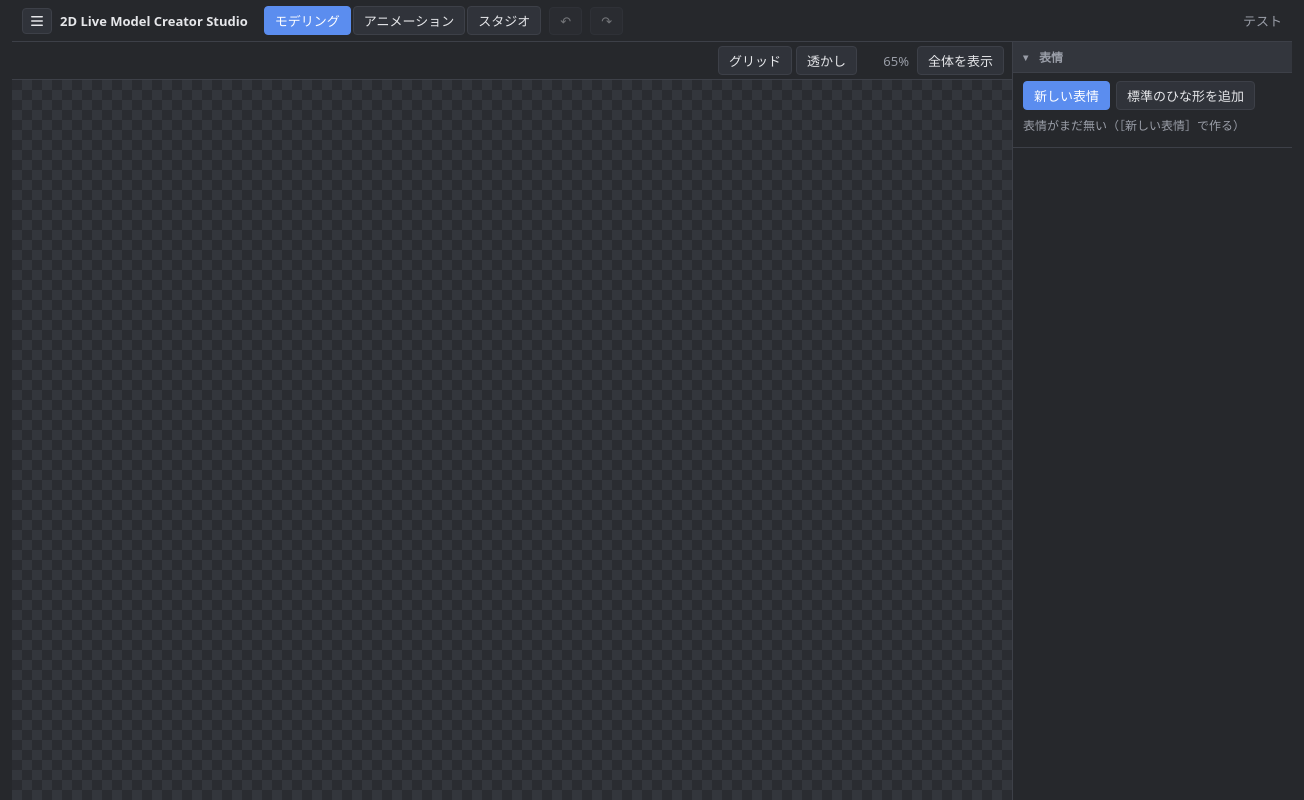
Test case: モデリングの「表情」パネル › 合成方法は最初から表示する
The image size is (1304, 800).
What coordinates should you click on to do the following:
click the button "新しい表情"
I would click on:
 (1066, 96)
Its box is [1023,81,1110,110].
(page scrolled)
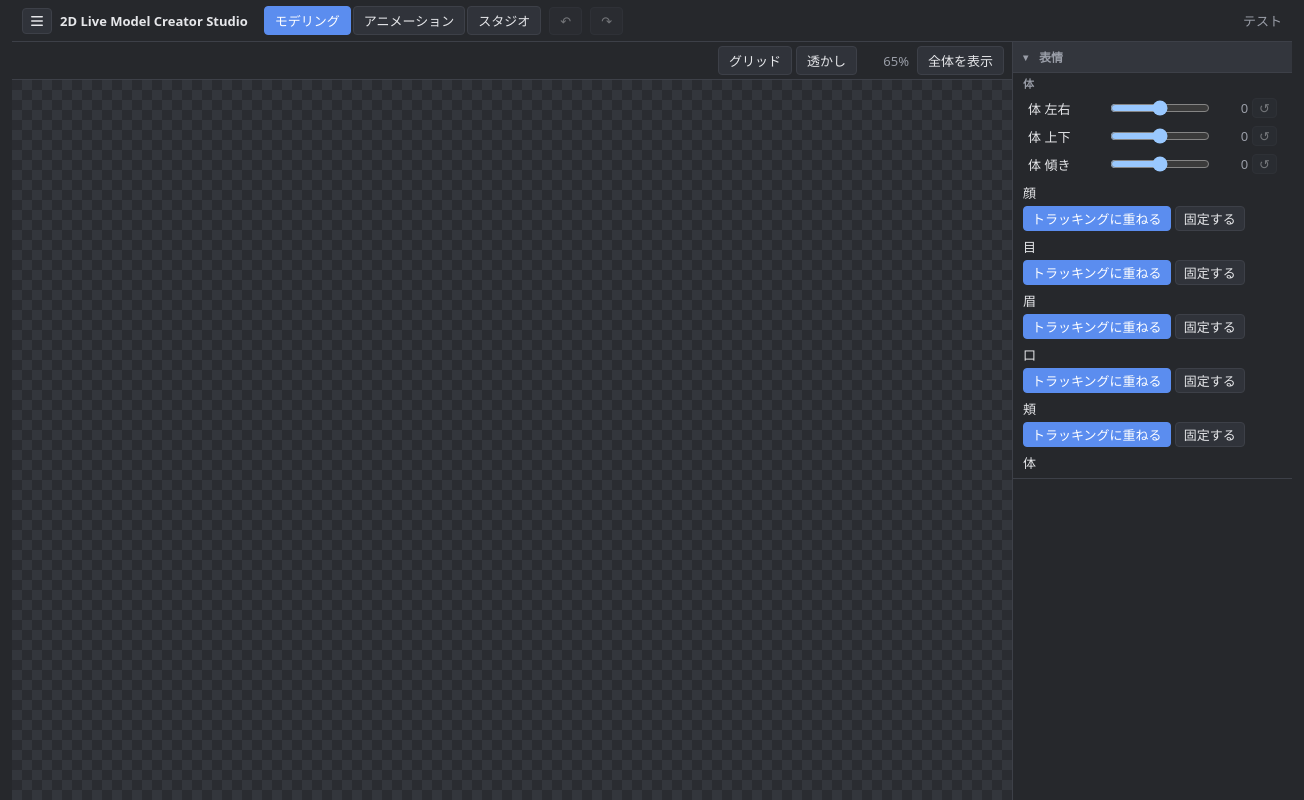
Check: the element named "目の合成方法" is shown, box [1023,260,1245,285]
